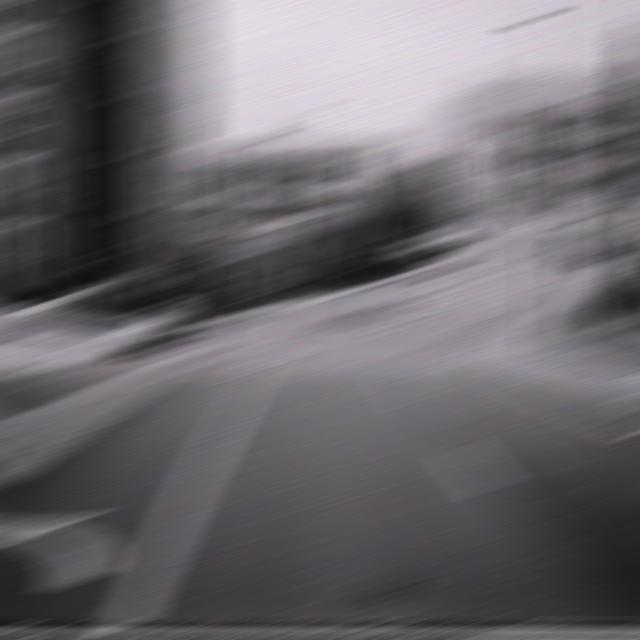stop_sign: (554, 227, 594, 260), (181, 228, 217, 262)
